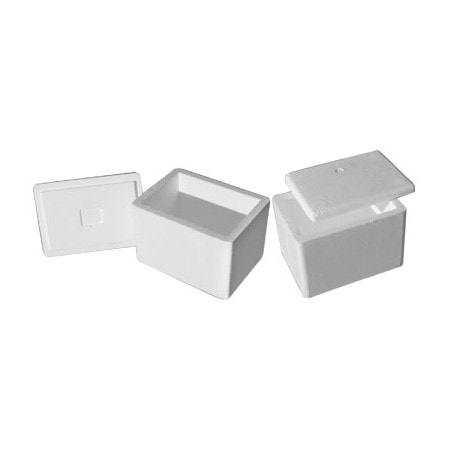Foam Box: (270, 146, 421, 300), (129, 165, 269, 301), (31, 168, 149, 261)
